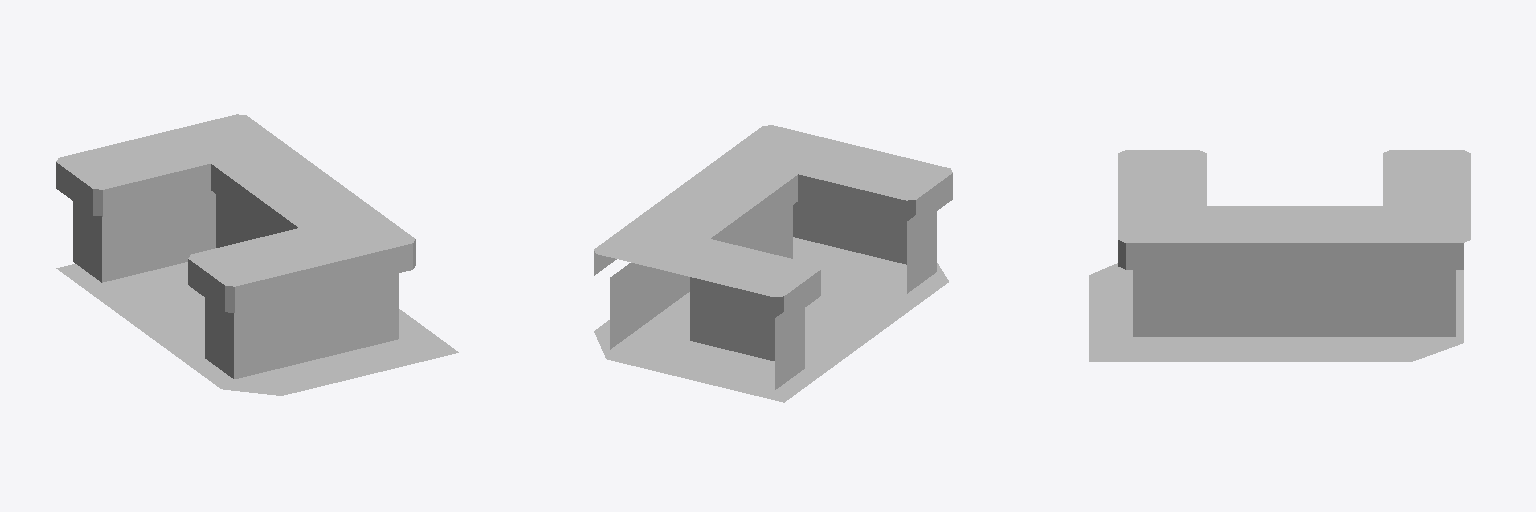
The model's file is Counter 2.obj.
3 renders of one model, left to right at view 1: azimuth 30°, elevation 25°; view 2: azimuth 150°, elevation 25°; view 3: azimuth 270°, elevation 25°, orthographic.
Parts seen in each view (by area): view 1: polygon1, polygon0; view 2: polygon1, polygon0; view 3: polygon1, polygon0.
Boxes of the visible parts, box(x1,y1,x2,y2) form: polygon1: box(56, 114, 415, 378); polygon0: box(56, 262, 458, 395); polygon1: box(594, 125, 952, 389); polygon0: box(594, 237, 948, 402); polygon1: box(1118, 150, 1470, 336); polygon0: box(1089, 263, 1463, 361).
Size of the model in its own units: 34 by 16 by 52.